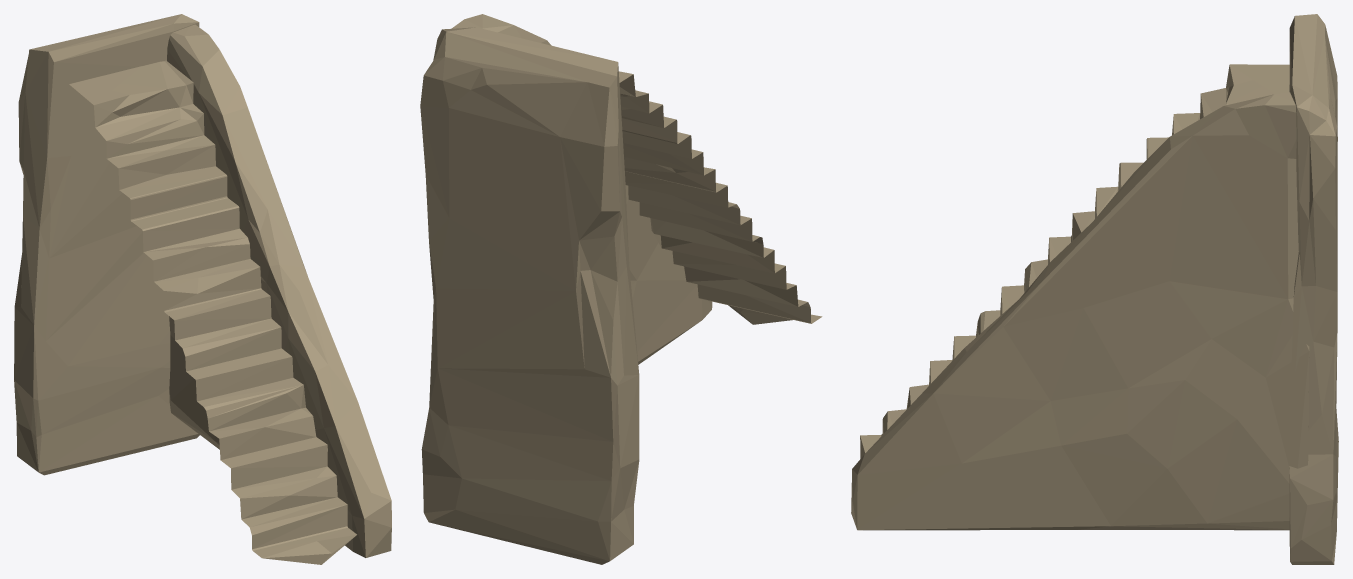
File: SM_stairs_building_02.fbx
3 renders of one model, left to right at view 1: azimuth 30°, elevation 25°; view 2: azimuth 150°, elevation 25°; view 3: azimuth 270°, elevation 25°, orthographic. The views are drawn at different scales.
Visible parts, largest first — view 1: Object172; view 2: Object172; view 3: Object172.
Boxes of the visible parts, <box> form: Object172: <box>14,14,391,564</box>; Object172: <box>420,14,822,564</box>; Object172: <box>851,14,1338,564</box>.
Size of the model in its own units: 50.82 by 111 by 118.
